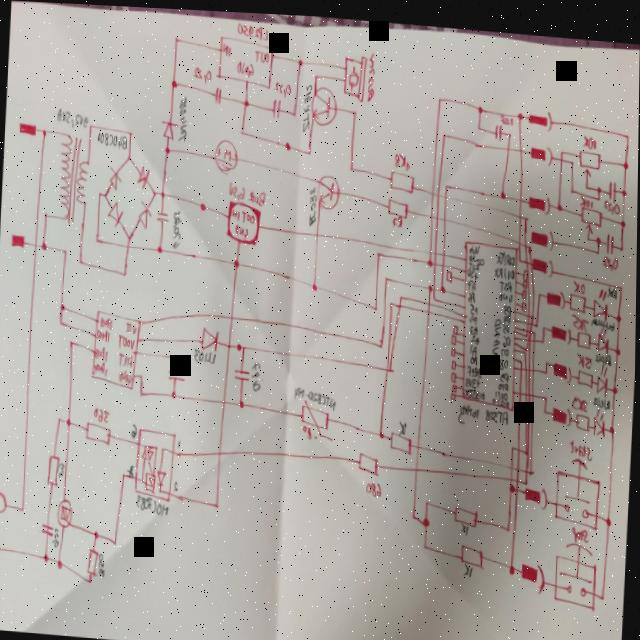capacitor: (40, 518, 57, 540), (234, 362, 252, 380), (156, 204, 171, 225), (211, 83, 225, 102), (169, 366, 187, 379), (608, 172, 618, 193), (273, 94, 282, 116), (606, 226, 615, 247), (493, 120, 503, 135)
crossover: (220, 390, 230, 404), (216, 445, 225, 457), (227, 338, 235, 350), (315, 225, 322, 238), (33, 237, 39, 250), (228, 310, 237, 318), (518, 140, 524, 148), (506, 137, 511, 146), (125, 240, 131, 247), (431, 184, 436, 192), (385, 362, 390, 369), (520, 383, 524, 391), (508, 124, 512, 132), (442, 257, 447, 263), (519, 191, 524, 197), (518, 234, 523, 240), (528, 360, 533, 366), (520, 360, 525, 366), (434, 244, 438, 251), (533, 359, 537, 366), (417, 437, 421, 444), (434, 279, 438, 286), (427, 304, 431, 311), (443, 247, 447, 253), (434, 255, 438, 261), (399, 299, 403, 305), (444, 188, 448, 194), (430, 208, 434, 214), (436, 209, 440, 215), (444, 211, 448, 217), (519, 208, 523, 214), (525, 253, 529, 259), (528, 306, 532, 312), (529, 330, 533, 336), (526, 359, 530, 365), (518, 460, 522, 466), (517, 472, 521, 478), (416, 461, 420, 467), (446, 176, 449, 184), (532, 385, 535, 391), (531, 254, 534, 260), (519, 440, 522, 446), (532, 307, 535, 313), (429, 245, 433, 249), (524, 237, 528, 241), (527, 322, 531, 326), (532, 316, 536, 320), (510, 472, 514, 476), (511, 459, 515, 463), (428, 296, 432, 300), (517, 481, 521, 485), (438, 187, 441, 192), (528, 315, 531, 319), (526, 386, 529, 390), (529, 386, 532, 390), (527, 462, 530, 466), (526, 341, 529, 345), (535, 331, 537, 336)
diode: (593, 278, 611, 316), (596, 355, 613, 391), (107, 197, 126, 227), (201, 323, 220, 351), (137, 198, 154, 228), (593, 401, 609, 432), (596, 317, 612, 347), (136, 161, 152, 188), (108, 164, 124, 190), (161, 115, 178, 139)
junction: (119, 350, 135, 366), (170, 76, 180, 90), (232, 204, 242, 217), (240, 394, 248, 409), (348, 156, 356, 171), (234, 255, 242, 265), (510, 559, 518, 569), (608, 508, 614, 521), (284, 138, 292, 147), (425, 511, 432, 521), (517, 104, 524, 114), (312, 278, 319, 288), (238, 338, 244, 349), (597, 227, 603, 238), (296, 54, 304, 62), (478, 99, 485, 108), (42, 127, 49, 136), (559, 147, 566, 156), (156, 242, 163, 251), (380, 424, 386, 434), (622, 180, 628, 190), (68, 415, 74, 425), (610, 417, 616, 427), (557, 195, 563, 205), (42, 240, 48, 250), (45, 552, 51, 562), (59, 557, 65, 567), (511, 476, 517, 486), (621, 211, 627, 221), (61, 301, 67, 311), (500, 185, 507, 193), (127, 231, 134, 239), (244, 95, 250, 104), (623, 153, 629, 162), (79, 256, 85, 265), (617, 306, 623, 315), (412, 507, 418, 516), (616, 340, 622, 349), (95, 528, 101, 536), (172, 387, 178, 395), (160, 187, 166, 195), (307, 144, 313, 152), (64, 245, 70, 253), (353, 104, 359, 112), (584, 176, 590, 184), (441, 280, 447, 288), (59, 317, 65, 325), (95, 234, 101, 242), (613, 378, 619, 386), (377, 244, 382, 253), (560, 141, 565, 150), (508, 519, 513, 527), (128, 151, 133, 159), (426, 492, 431, 500), (570, 180, 575, 188), (443, 126, 448, 134), (602, 586, 607, 594), (175, 32, 180, 40), (598, 178, 603, 186), (314, 68, 319, 76), (165, 144, 170, 152), (202, 200, 207, 208), (542, 331, 547, 338), (380, 337, 385, 344), (545, 363, 550, 370), (293, 106, 297, 114), (425, 537, 429, 545), (115, 536, 119, 544), (627, 124, 631, 132), (571, 151, 575, 159), (241, 124, 245, 132), (90, 120, 94, 128), (477, 117, 481, 125), (90, 575, 94, 583), (526, 443, 530, 451), (525, 208, 529, 216), (385, 270, 390, 276), (542, 318, 547, 324), (176, 352, 180, 359), (141, 388, 145, 395), (23, 504, 27, 511), (45, 210, 49, 217), (217, 499, 221, 506), (439, 90, 443, 97), (546, 387, 550, 394), (124, 268, 128, 275), (99, 188, 103, 195), (375, 299, 379, 306), (429, 255, 433, 262), (429, 279, 433, 286), (546, 352, 550, 359), (620, 276, 624, 283), (539, 285, 543, 291), (70, 338, 74, 344), (545, 402, 549, 408), (141, 371, 145, 377), (400, 289, 404, 295), (538, 316, 542, 322), (391, 361, 395, 367), (390, 294, 394, 300), (512, 438, 516, 444), (520, 352, 524, 358), (518, 249, 522, 255), (588, 228, 592, 234), (597, 242, 601, 248), (244, 342, 248, 348), (532, 462, 535, 469), (525, 474, 529, 478), (434, 291, 437, 295), (525, 345, 527, 349)
resistor: (578, 141, 604, 171), (455, 498, 482, 524), (461, 537, 488, 563), (579, 200, 604, 228), (85, 419, 114, 443), (389, 425, 414, 451), (388, 165, 415, 189), (358, 445, 381, 471), (387, 192, 409, 213), (570, 285, 589, 308), (48, 453, 62, 484), (577, 323, 595, 344), (577, 362, 595, 383), (88, 545, 101, 573), (576, 407, 592, 423)
switch: (555, 448, 604, 524), (553, 533, 601, 605)
terminal: (226, 195, 264, 243), (11, 230, 27, 251), (0, 488, 11, 513), (0, 527, 4, 557)
text: (458, 398, 510, 421), (228, 178, 268, 203), (295, 381, 339, 403), (137, 491, 172, 514), (56, 106, 91, 128), (366, 45, 379, 98), (97, 128, 129, 148), (237, 18, 270, 37), (178, 92, 191, 139), (302, 76, 313, 129), (569, 431, 594, 454), (492, 309, 504, 353), (172, 205, 184, 246), (193, 344, 218, 362), (309, 180, 319, 222), (366, 474, 385, 493), (393, 147, 412, 166), (194, 62, 213, 80), (118, 331, 137, 349), (301, 419, 320, 437), (252, 357, 263, 388), (573, 386, 590, 406), (593, 388, 615, 403), (94, 404, 113, 421), (274, 76, 293, 93), (603, 276, 622, 293), (576, 346, 594, 363), (95, 343, 113, 360), (572, 520, 591, 536), (94, 358, 111, 375), (592, 311, 616, 323), (603, 247, 621, 263), (238, 57, 255, 73), (242, 205, 258, 222), (604, 192, 622, 207), (596, 345, 615, 359), (496, 247, 515, 261), (493, 262, 515, 274), (465, 382, 487, 394), (573, 309, 589, 325), (20, 119, 36, 135), (466, 369, 482, 385), (235, 221, 251, 236), (572, 271, 587, 286), (99, 549, 108, 574), (583, 128, 597, 143), (256, 45, 270, 60), (100, 314, 114, 328), (98, 326, 112, 340), (499, 285, 515, 297), (125, 319, 139, 332), (131, 418, 140, 438), (579, 191, 595, 202), (468, 360, 484, 371), (400, 414, 411, 430), (121, 368, 133, 382), (463, 557, 474, 572), (501, 106, 513, 119), (467, 273, 479, 286), (55, 525, 62, 546), (469, 249, 485, 258), (59, 458, 66, 478), (459, 518, 471, 529), (469, 237, 481, 248), (393, 209, 403, 222), (500, 351, 510, 363), (500, 275, 512, 285), (499, 364, 510, 374), (469, 262, 479, 273), (470, 309, 480, 320), (493, 391, 511, 397), (472, 347, 480, 360), (496, 384, 513, 390), (504, 308, 514, 318), (497, 376, 509, 384), (469, 286, 477, 298), (471, 297, 479, 309), (470, 338, 478, 350), (504, 298, 512, 309), (471, 318, 479, 329), (473, 328, 481, 339), (130, 459, 136, 473), (503, 329, 510, 341), (503, 318, 512, 327), (502, 341, 510, 351), (471, 257, 481, 265), (178, 437, 184, 447), (175, 478, 181, 488)
transformer: (56, 128, 94, 226)
transistor: (310, 79, 340, 124), (316, 168, 342, 207)
